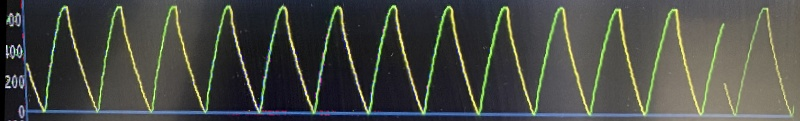normal_volume: (32, 0, 800, 120)
